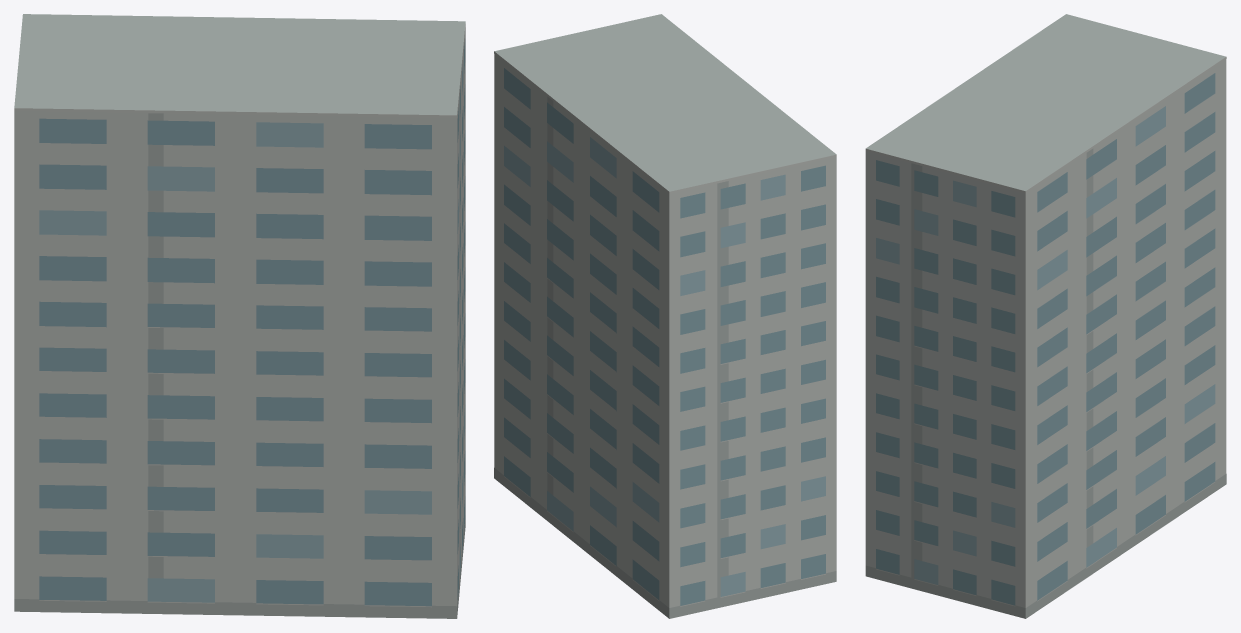
Rendered from residential-3d2b71e8-a55d-4242-acd3-bea139bb4dfa.glb.
3 views of the same model, side by side, from view 1: azimuth 30°, elevation 25°; view 2: azimuth 150°, elevation 25°; view 3: azimuth 270°, elevation 25° (orthographic). The views are drawn at different scales.
Parts seen in each view (by area): view 1: residential-3d2b71e8-a55d-4242-acd3-bea139bb4dfa.tmp; view 2: residential-3d2b71e8-a55d-4242-acd3-bea139bb4dfa.tmp; view 3: residential-3d2b71e8-a55d-4242-acd3-bea139bb4dfa.tmp.
Part boxes in pixels (<box>): residential-3d2b71e8-a55d-4242-acd3-bea139bb4dfa.tmp: <box>14,14,465,618</box>; residential-3d2b71e8-a55d-4242-acd3-bea139bb4dfa.tmp: <box>494,14,836,618</box>; residential-3d2b71e8-a55d-4242-acd3-bea139bb4dfa.tmp: <box>865,14,1226,618</box>.
Bounding box in the file's own units: 39.12 × 44 × 33.66.
